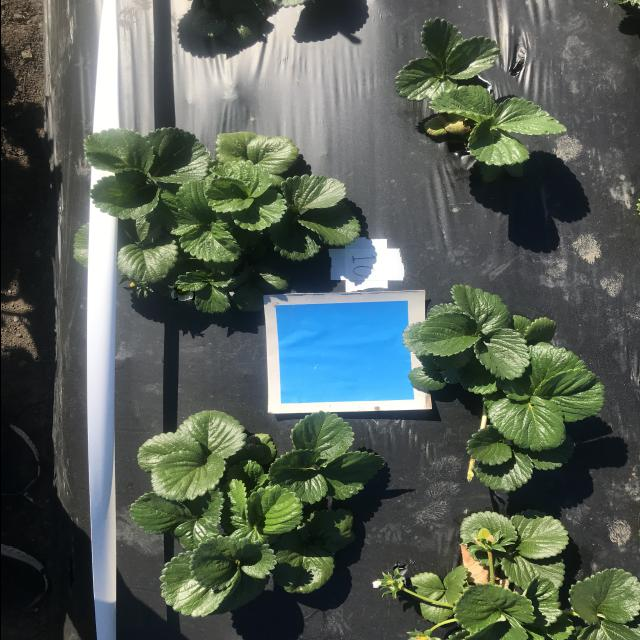Flower: (172, 284, 194, 301)
Green Strawberry: (475, 528, 497, 546)
